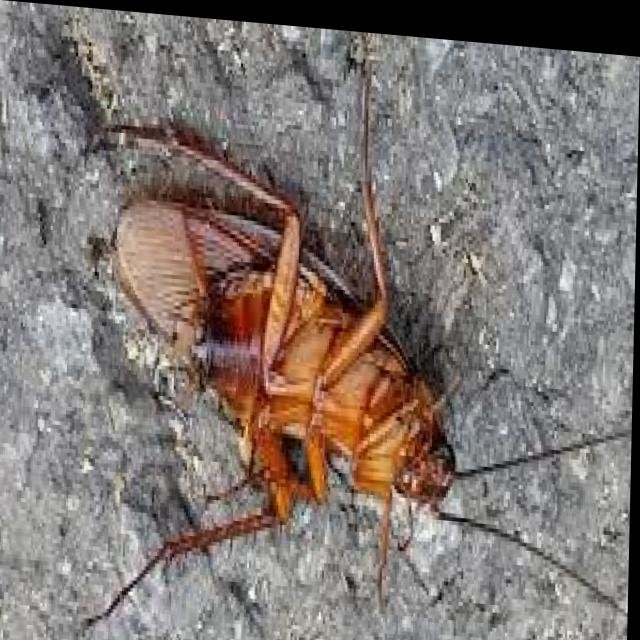Cockroach: (64, 24, 640, 640)
